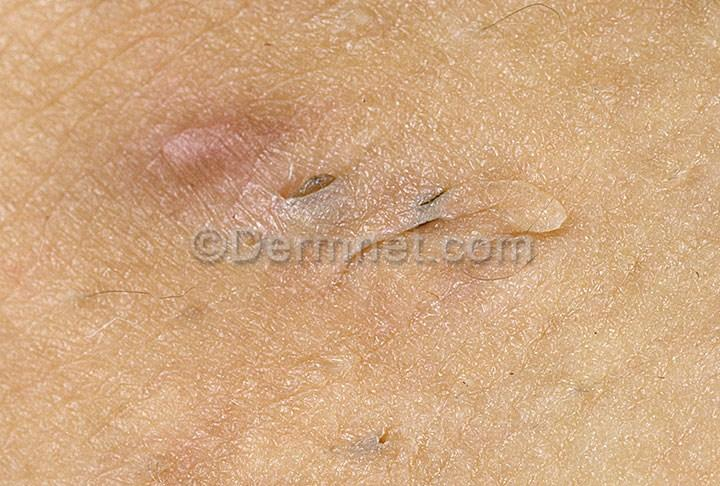Acne: (269, 161, 447, 259)
